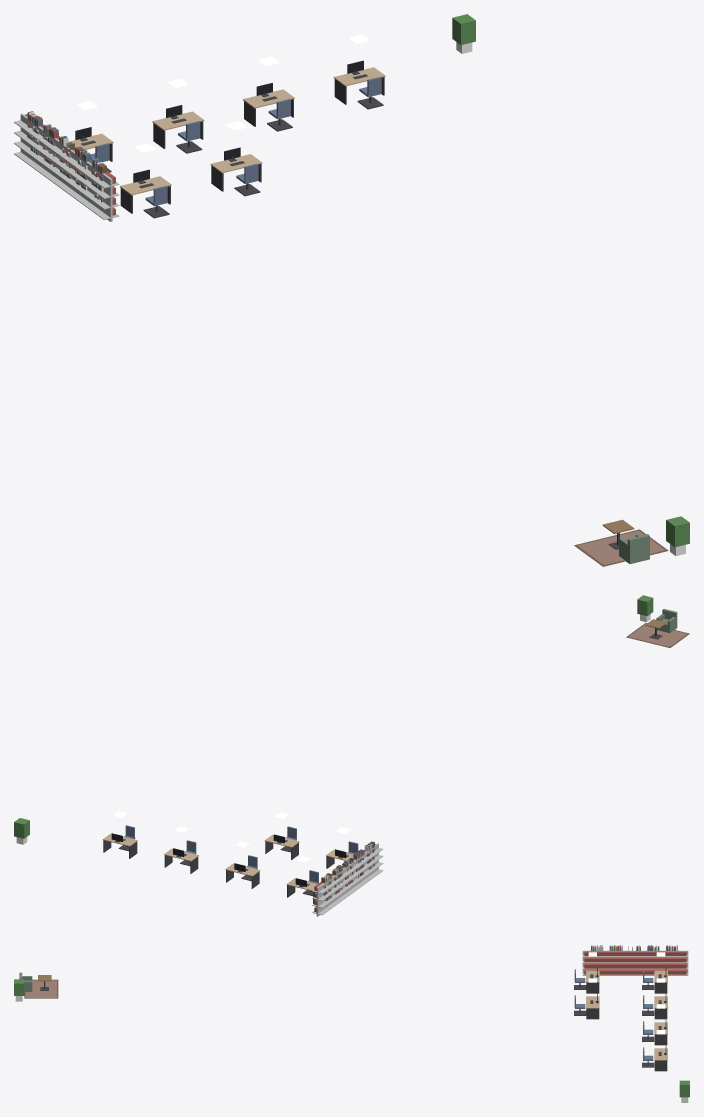
Rendered from fine-s7.glb.
The picture shows the model from 3 angles, top to bottom: view 1: azimuth 30°, elevation 25°; view 2: azimuth 150°, elevation 25°; view 3: azimuth 270°, elevation 25°; orthographic projection. The views are drawn at different scales.
Visible parts, largest first — view 1: soft-s7, shelving.035, shelving.031, office-desk-real.041, office-desk-real.037, office-desk-real.039, office-desk-real.040, office-desk-real.038, shelving.034, shelving.032, shelving.033; view 2: soft-s7, shelving.031; view 3: soft-s7, shelving.031, shelving.033, shelving.034, shelving.032, shelving.035, office-desk-real.039, office-desk-real.041, office-desk-real.036, office-desk-real.040, office-desk-real.037, office-desk-real.038.
Part boxes in pixels (bbox=[...]): soft-s7: bbox=[27, 111, 668, 566]; shelving.035: bbox=[78, 161, 119, 221]; shelving.031: bbox=[14, 113, 46, 172]; office-desk-real.041: bbox=[210, 147, 262, 191]; office-desk-real.037: bbox=[152, 105, 204, 148]; office-desk-real.039: bbox=[333, 60, 385, 104]; office-desk-real.040: bbox=[120, 169, 171, 213]; office-desk-real.038: bbox=[243, 83, 294, 126]; shelving.034: bbox=[62, 150, 94, 207]; shelving.032: bbox=[30, 126, 62, 184]; shelving.033: bbox=[46, 138, 78, 196]; soft-s7: bbox=[321, 623, 689, 901]; shelving.031: bbox=[312, 875, 339, 916]; soft-s7: bbox=[24, 945, 677, 998]; shelving.031: bbox=[657, 950, 688, 975]; shelving.033: bbox=[620, 950, 648, 975]; shelving.034: bbox=[601, 950, 631, 975]; shelving.032: bbox=[639, 950, 668, 975]; shelving.035: bbox=[582, 950, 612, 975]; office-desk-real.039: bbox=[654, 1046, 667, 1071]; office-desk-real.041: bbox=[586, 993, 599, 1019]; office-desk-real.036: bbox=[654, 968, 667, 993]; office-desk-real.040: bbox=[586, 967, 599, 993]; office-desk-real.037: bbox=[654, 994, 667, 1019]; office-desk-real.038: bbox=[654, 1020, 667, 1045].
Size of the model in its own units: 18.06 by 2.19 by 39.66.
